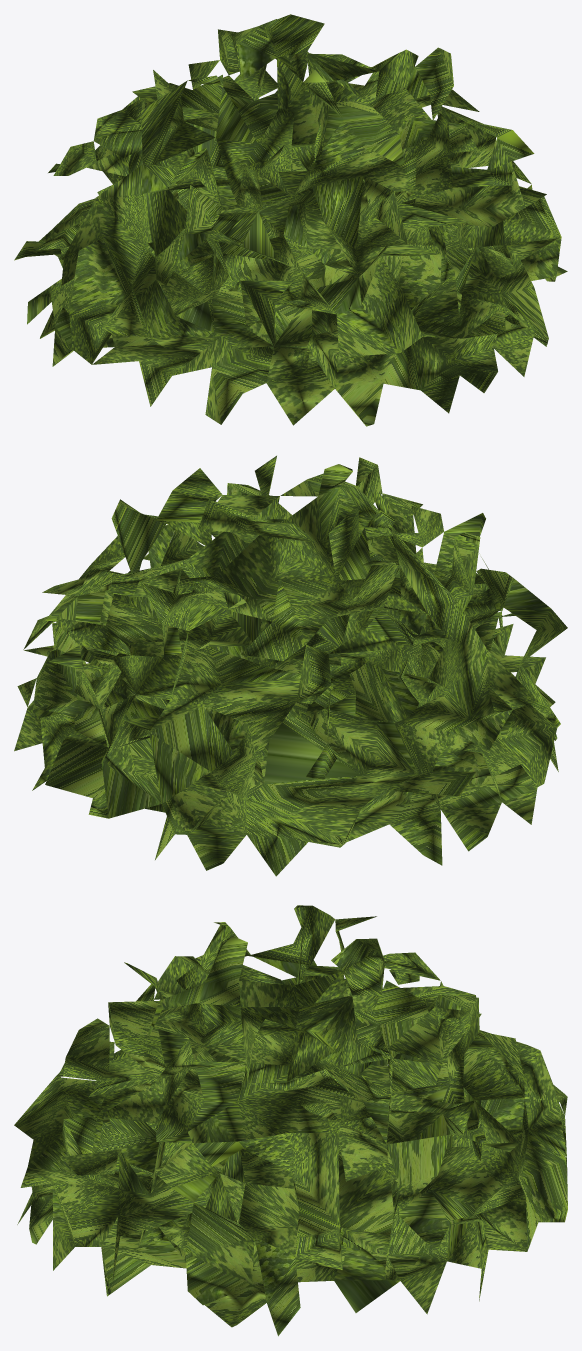
File: plant_a.glb
The picture shows the model from 3 angles, top to bottom: view 1: azimuth 30°, elevation 25°; view 2: azimuth 150°, elevation 25°; view 3: azimuth 270°, elevation 25°; orthographic projection. The views are drawn at different scales.
Size of the model in its own units: 0.985 by 0.5581 by 0.9709.
1 material, 1 textured.
